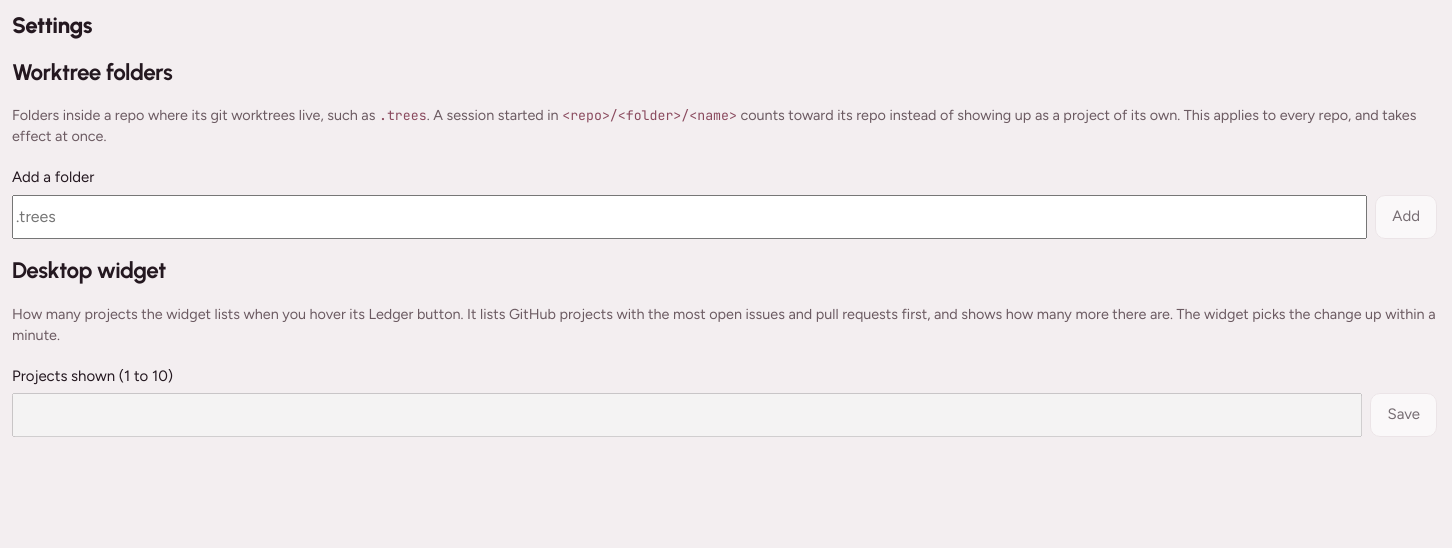
SettingsPage › shows the server's reason for a rejected folder and keeps the list and the input
Type "../shared" into the field labelled "Add a folder".
click(690, 217); type("../shared")  # box 12,195 -> 1367,239
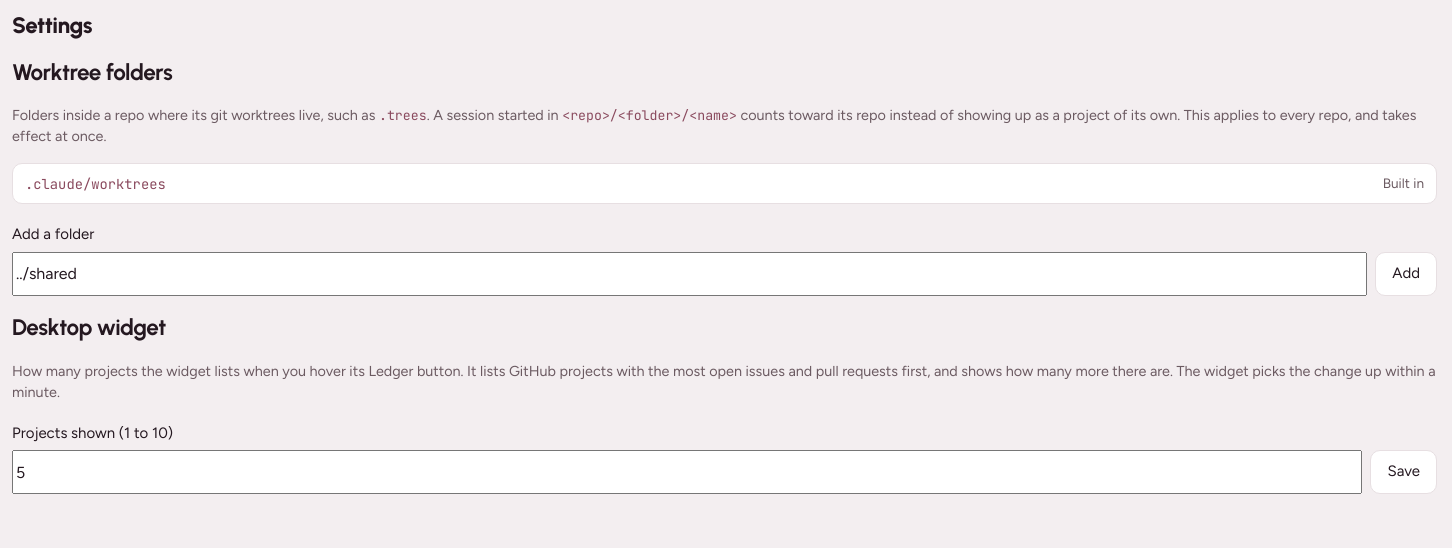
Click the button "Add".
click(1406, 274)  # box 1375,252 -> 1437,296
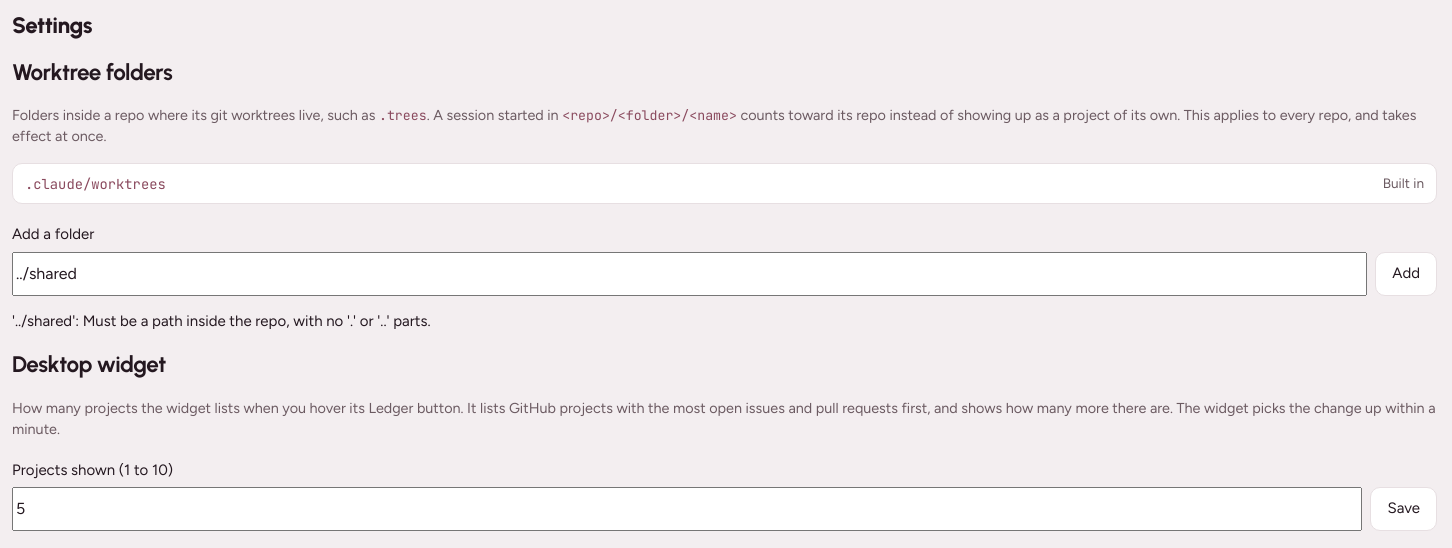
expect the number of list items is 1: met, box 12,163 -> 1437,204
expect the message shows "Must be a path inside the repo": met, box 12,312 -> 431,330
